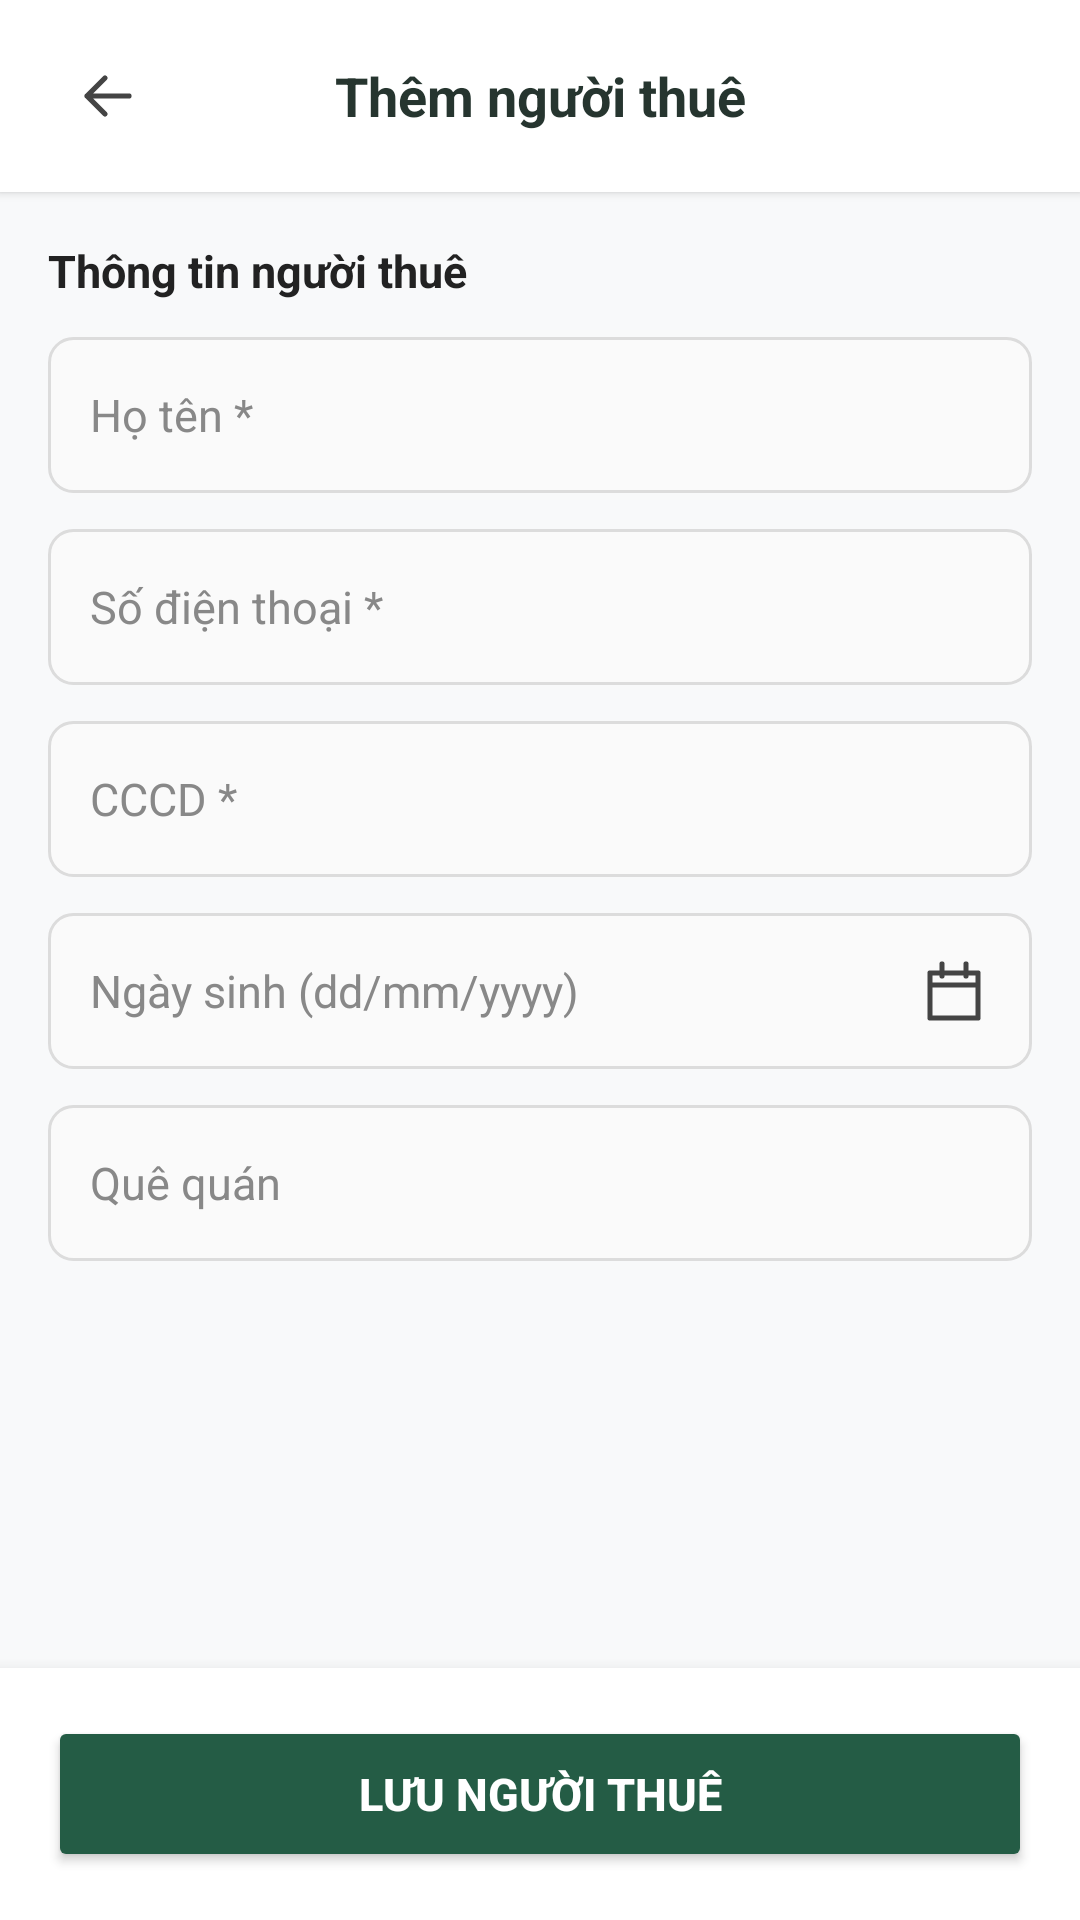

Screen size 1080 × 1920. Icon name, then its center in pixels as point (x, y):
Quay lại: point (108, 96)
